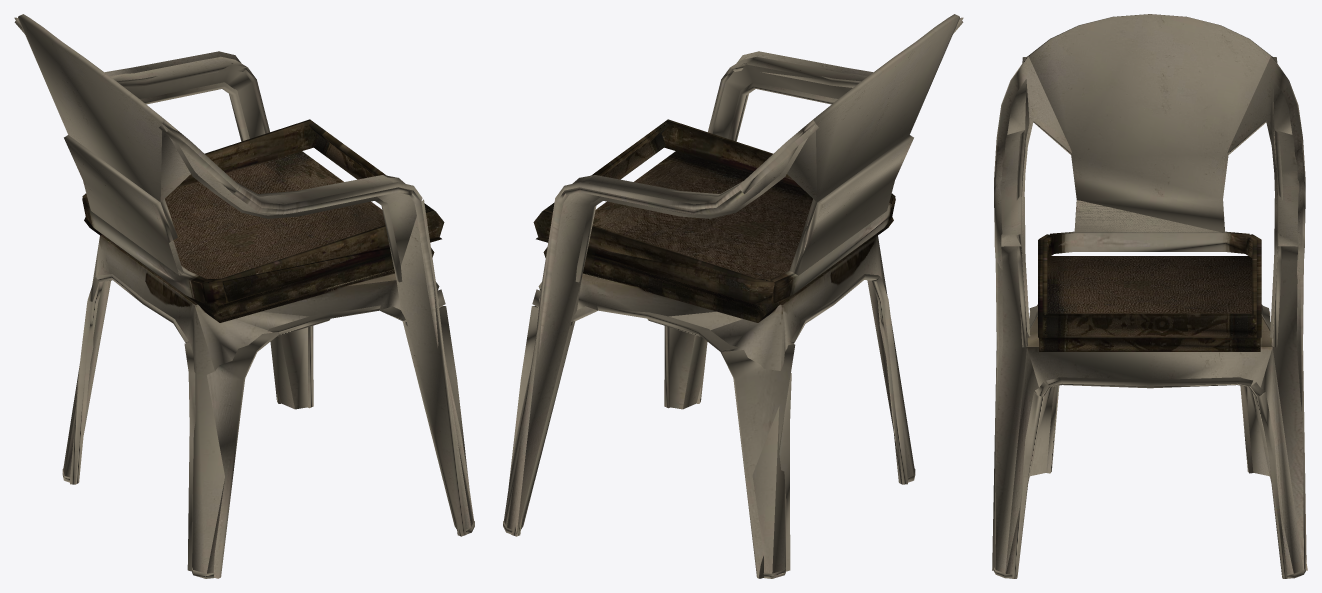
Rendered from Chair.fbx.
3 views of the same model, side by side, from view 1: azimuth 30°, elevation 25°; view 2: azimuth 150°, elevation 25°; view 3: azimuth 270°, elevation 25° (orthographic). The views are drawn at different scales.
Parts seen in each view (by area): view 1: tripo_node_2e08651c-7a8f-4608-a8a4-82442969938a; view 2: tripo_node_2e08651c-7a8f-4608-a8a4-82442969938a; view 3: tripo_node_2e08651c-7a8f-4608-a8a4-82442969938a.
Part boxes in pixels (x1,y1,x2,y2): tripo_node_2e08651c-7a8f-4608-a8a4-82442969938a: (14, 14, 474, 578); tripo_node_2e08651c-7a8f-4608-a8a4-82442969938a: (503, 14, 963, 578); tripo_node_2e08651c-7a8f-4608-a8a4-82442969938a: (992, 14, 1307, 578).
Bounding box in the file's own units: 69.89 × 100 × 67.01.
Materials: 1 (1 with a texture image).
